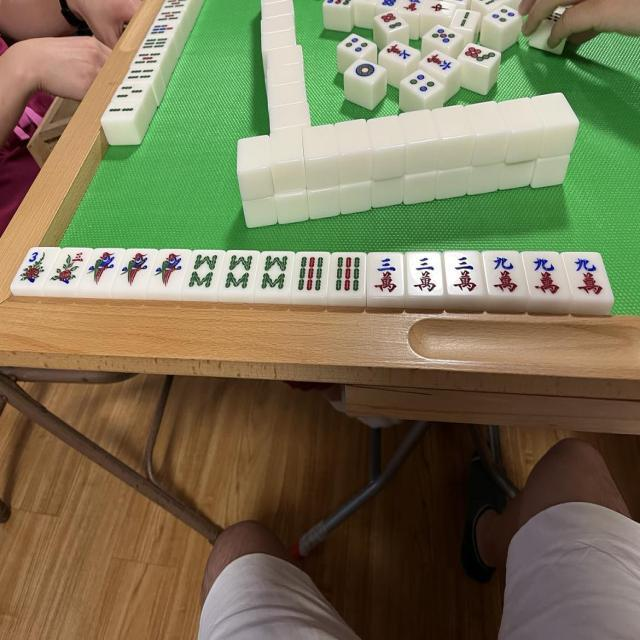bf3: (14, 248, 59, 286)
bs3: (46, 248, 92, 286)
hdr: (424, 0, 458, 19)
sb1: (119, 250, 148, 290), (155, 250, 182, 290), (88, 250, 116, 288)
sb2: (450, 8, 481, 33), (103, 104, 140, 119)
sb8: (189, 250, 218, 292), (224, 252, 253, 294), (261, 253, 287, 293)
sb9: (334, 254, 363, 296), (296, 253, 324, 294)
sc3: (448, 251, 478, 297), (410, 251, 440, 296), (370, 253, 400, 296)
sc6: (420, 51, 461, 77)
sc7: (380, 39, 420, 68)
sc9: (488, 252, 520, 296), (572, 256, 604, 299), (532, 253, 562, 297)
sd1: (347, 57, 386, 84)
sd4: (402, 69, 443, 99), (483, 5, 525, 30), (338, 33, 375, 56)
sd5: (422, 22, 465, 50)
sd6: (374, 9, 408, 32)
sd7: (461, 42, 502, 69)
